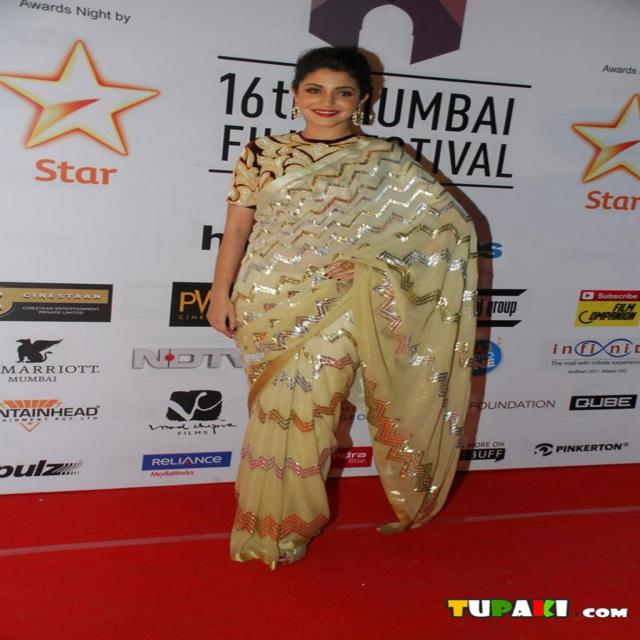Face: (276, 56, 364, 132)
